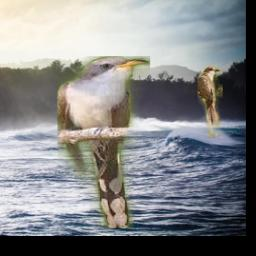Cuckoo: (57, 57, 150, 229), (197, 66, 222, 138)
